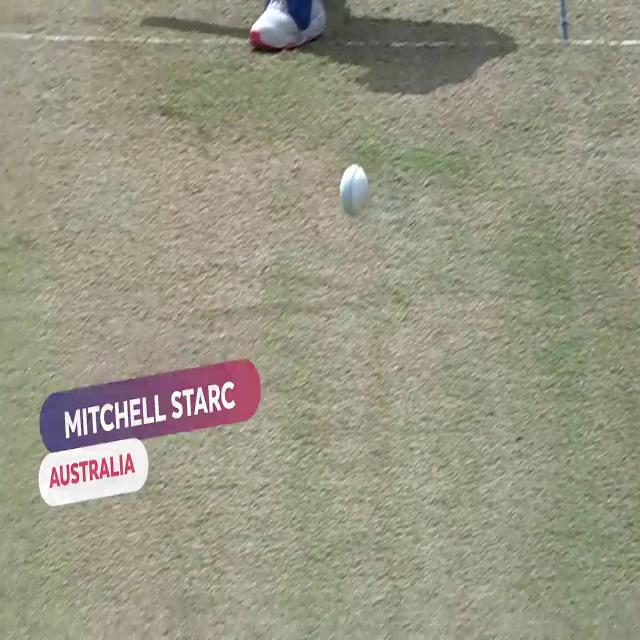ball: (340, 162, 370, 215)
